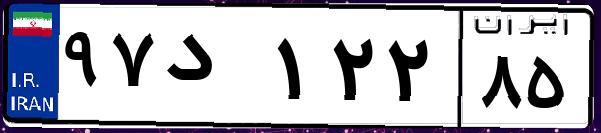1: (270, 28, 330, 110)
2: (385, 28, 445, 110), (330, 28, 385, 110)
5: (525, 38, 570, 115)
7: (110, 28, 158, 98)
8: (475, 38, 525, 113)
9: (57, 26, 110, 100)
د: (158, 20, 270, 120)
